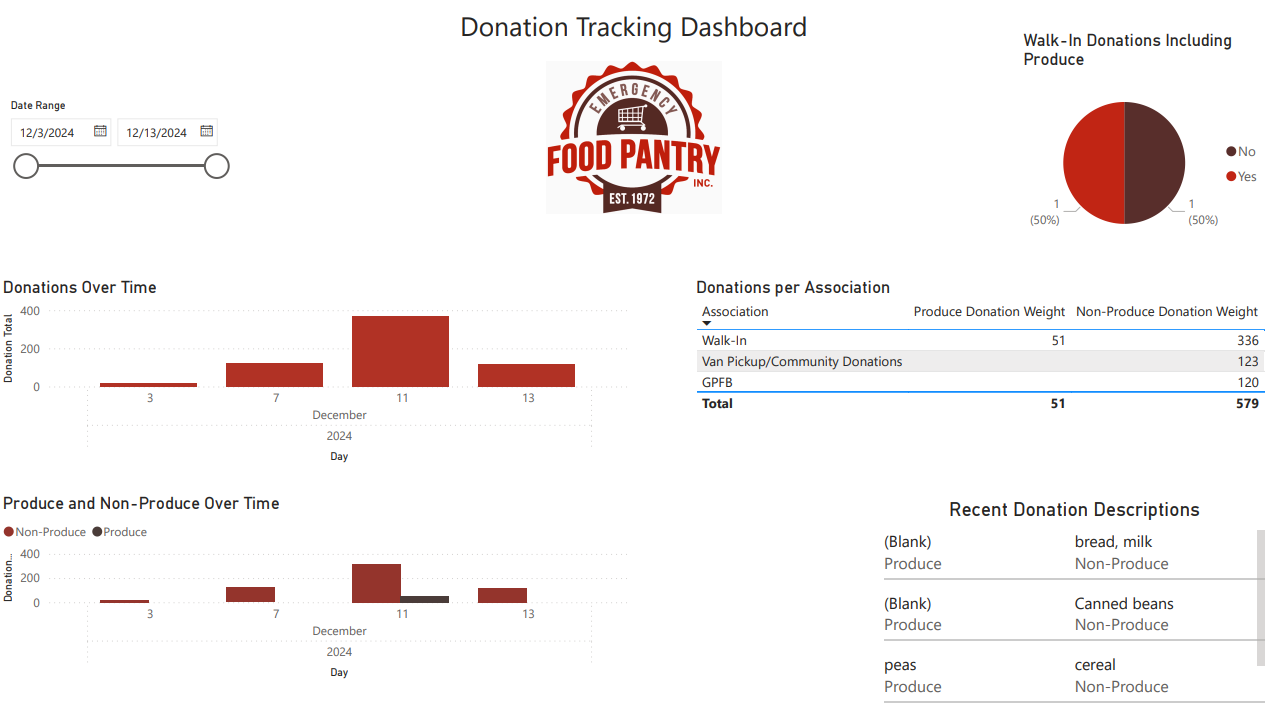

Layout of this report page (visuals, bound fields, positions):
{"tool":"powerbi","page":{"name":"Donation Tracking","canvas":[1280,720],"ordinal":1},"visuals":[{"type":"tableEx","title":"Donations per Association","fields":{"Values":["FoodInForm.Association","Sum(FoodInForm.Produce_Weight)","Sum(FoodInForm.Nonproduce_Weight)","Sum(FoodInForm.Total_Weight)"]},"box":[697.3,276.8,582.4,165.4],"z":0},{"type":"slicer","fields":{"Values":["DateTable.Date"]},"box":[0,93,241.2,98.8],"z":1000},{"type":"textbox","box":[170,0,939.1,55.5],"z":2000},{"type":"pieChart","title":"Walk-In Donations Including Produce","fields":{"Y":["CountNonNull(FoodInForm.Produce_YN)"],"Category":["FoodInForm.Produce_YN"]},"box":[1025.8,27.6,253.9,229.7],"z":3000},{"type":"image","box":[512.7,55.5,253.6,162.7],"z":4000},{"type":"multiRowCard","title":"Recent Donation Descriptions","fields":{"Values":["FoodInForm.Produce_Desc","FoodInForm.Nonproduce_Desc"]},"box":[876.5,493.9,403.2,226.3],"z":5000},{"type":"clusteredColumnChart","title":"Donations Over Time","fields":{"Category":["FoodInForm.Date.Variation.Date Hierarchy.Year"],"Y":["Sum(FoodInForm.Total_Weight)"]},"box":[0,276.8,639.8,190.7],"z":6000},{"type":"clusteredColumnChart","title":"Produce and Non-Produce Over Time","fields":{"Category":["FoodInForm.Date.Variation.Date Hierarchy.Year1"],"Y":["Sum(FoodInForm.Produce_Weight)1","Sum(FoodInForm.Nonproduce_Weight)1"]},"box":[0,493.9,639.8,190.7],"z":7000}]}

Visuals, with their boxes in screenshot pixels (x1, y1, x2, y2), scaled from the page's 1280x720 canvas onto the 1268x720 screenshot:
"Donations per Association" tableEx: box=[691, 277, 1267, 442]
slicer - DateTable.Date: box=[0, 93, 239, 192]
textbox: box=[168, 0, 1099, 56]
"Walk-In Donations Including Produce" pieChart: box=[1016, 28, 1267, 257]
image: box=[508, 56, 759, 218]
"Recent Donation Descriptions" multiRowCard: box=[868, 494, 1267, 719]
"Donations Over Time" clusteredColumnChart: box=[0, 277, 634, 468]
"Produce and Non-Produce Over Time" clusteredColumnChart: box=[0, 494, 634, 685]
